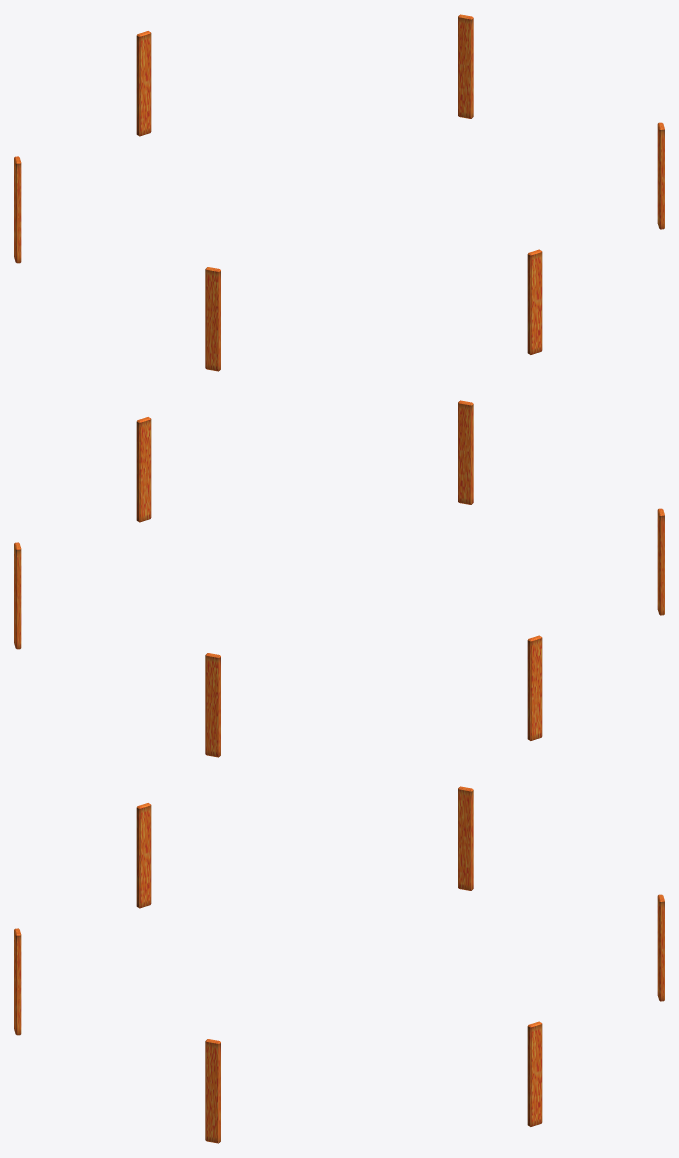
File: env_hole_lavaflows.fbx
The picture shows the model from 3 angles, top to bottom: view 1: azimuth 30°, elevation 25°; view 2: azimuth 150°, elevation 25°; view 3: azimuth 270°, elevation 25°; orthographic projection.
Visible parts, largest first — view 1: env_hole_lavaflows; view 2: env_hole_lavaflows; view 3: env_hole_lavaflows.
Part boxes in pixels (left/top/right/bottom): env_hole_lavaflows: left=14, top=14, right=664, bottom=371; env_hole_lavaflows: left=14, top=400, right=664, bottom=757; env_hole_lavaflows: left=14, top=786, right=664, bottom=1143.
Size of the model in its own units: 62.61 by 11.5 by 67.05.
Materials: 1 (1 with a texture image).
